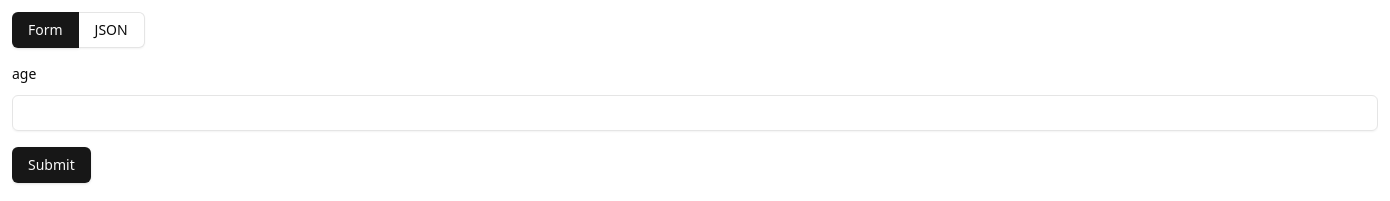
it: Form › Form/JSON mode toggle › prevents switching to form mode if JSON is invalid
// Switch to JSON mode
Click the button "JSON". click: (112, 30)
box: [79,12,145,48]
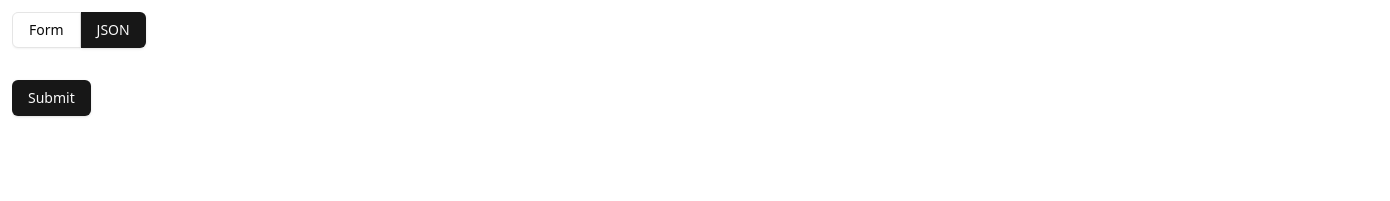
Expected: the label labelled "age" is gone
